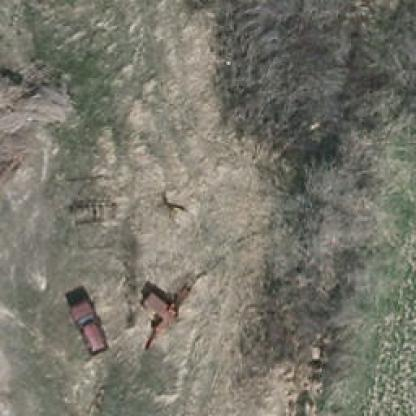car: (65, 296, 109, 354)
